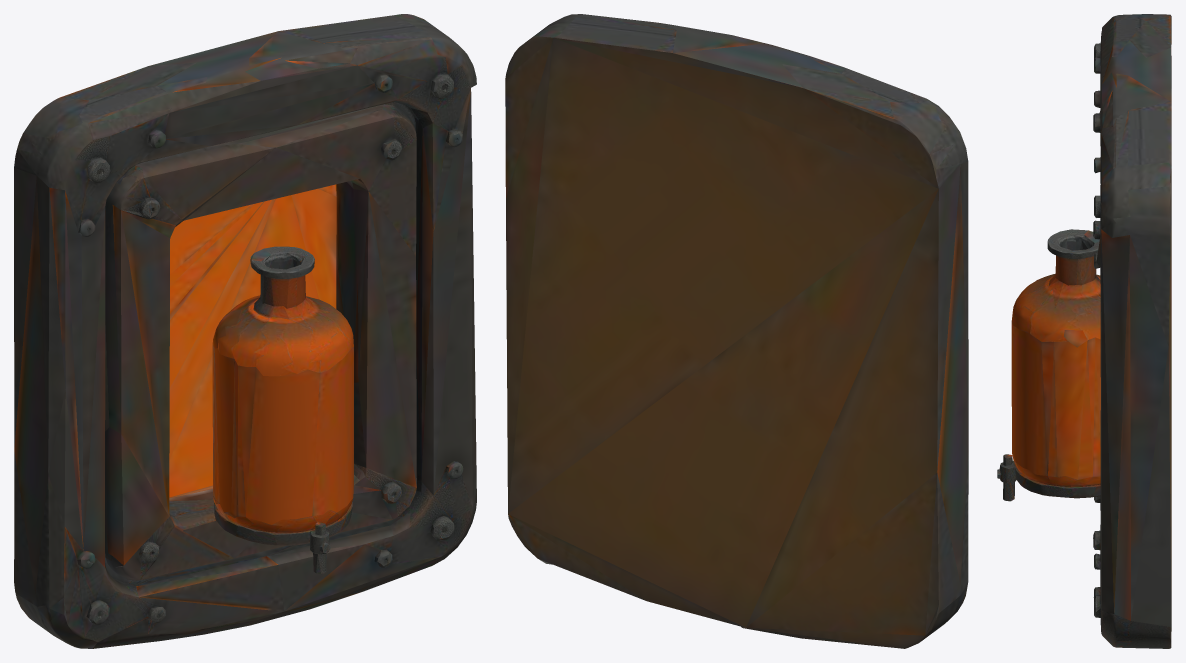
File: suero-coraza.glb
3 views of the same model, side by side, from view 1: azimuth 30°, elevation 25°; view 2: azimuth 150°, elevation 25°; view 3: azimuth 270°, elevation 25° (orthographic). The views are drawn at different scales.
Size of the model in its own units: 1.54 by 1.9 by 0.5921.
Materials: 1 (1 with a texture image).
